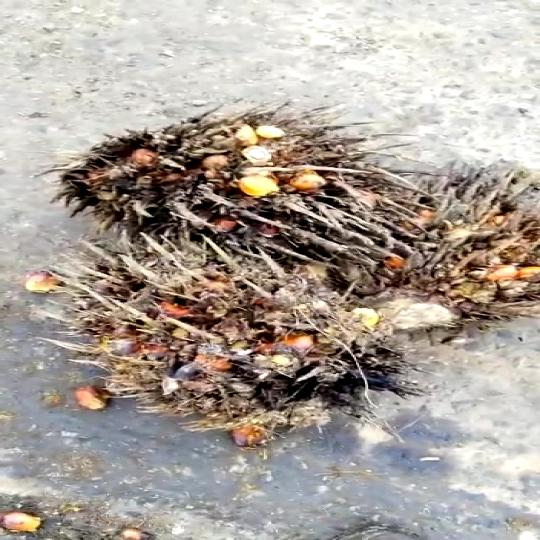terlalu masak: (0, 255, 410, 441), (284, 175, 540, 340), (48, 121, 398, 240)
